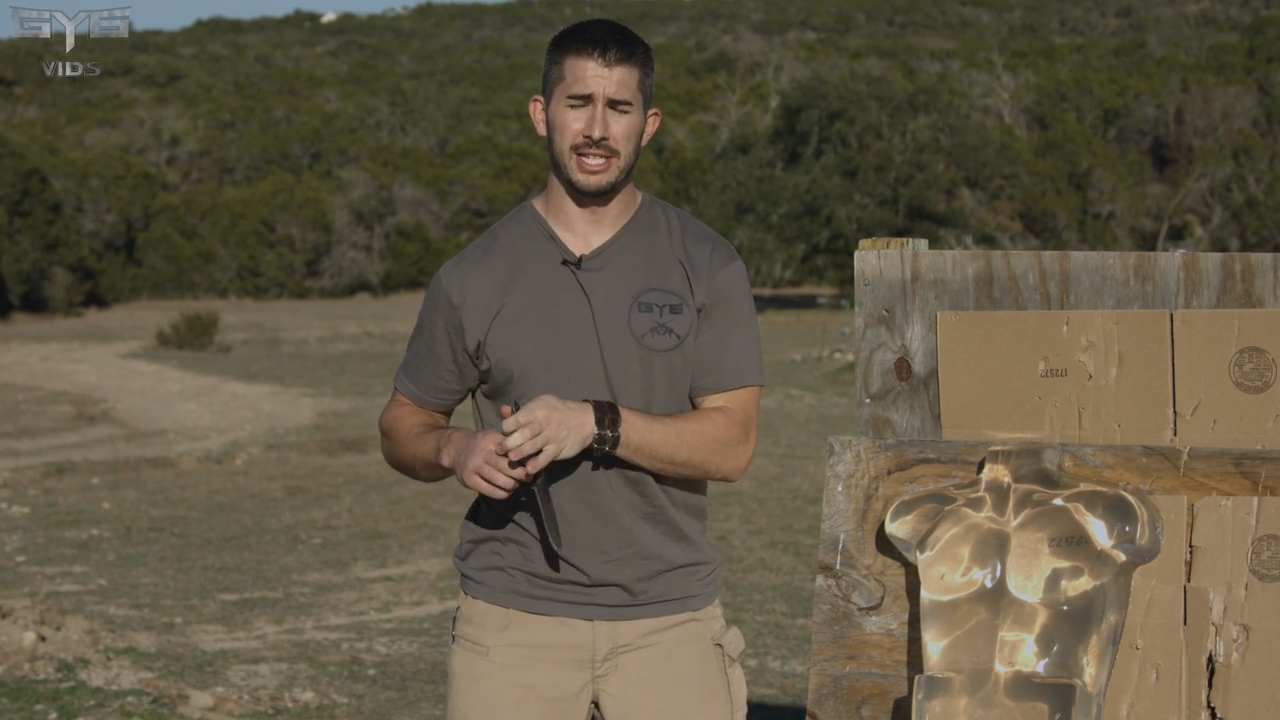knife: (465, 398, 568, 559)
